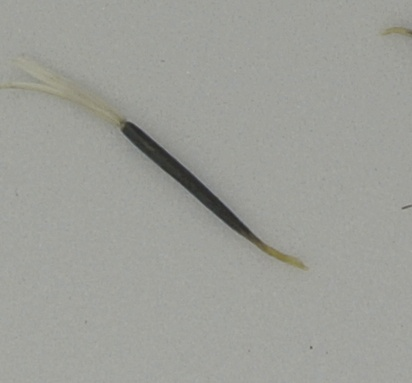เมล็ดดีเรียวยาว: (3, 48, 311, 272)
